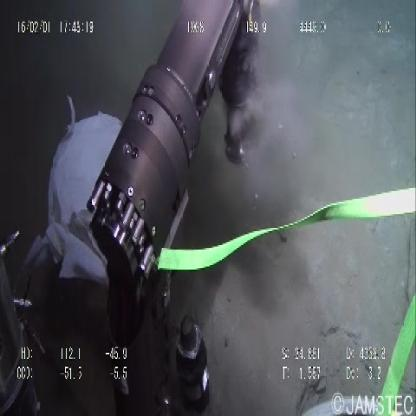Rov: (86, 2, 267, 399)
Rác: (40, 106, 128, 288)
